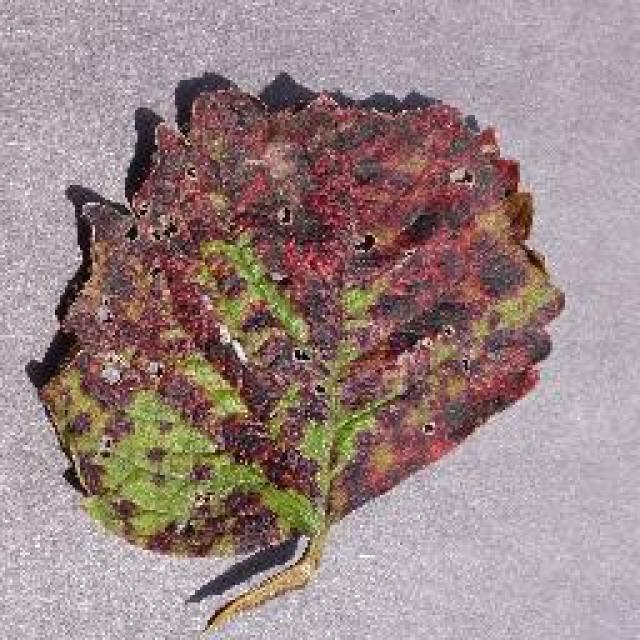Strawberry___Leaf_scorch: (14, 47, 577, 640)
